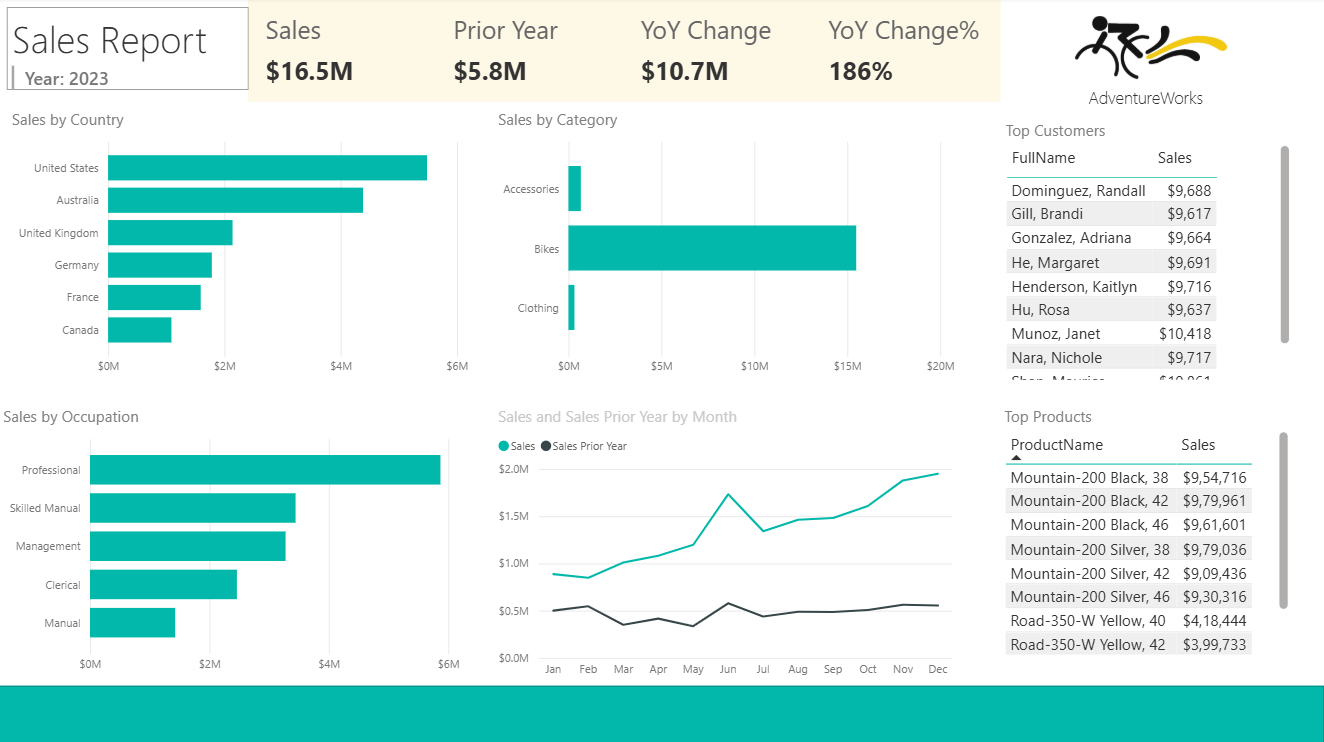

Layout of this report page (visuals, bound fields, positions):
{"tool":"powerbi","page":{"name":"Dashboard for Top customers and products","canvas":[1280,720],"ordinal":1},"visuals":[{"type":"textbox","box":[8.2,10,233.6,79.4],"z":0},{"type":"image","box":[1026.4,10,167,80.3],"z":1000},{"type":"clusteredBarChart","fields":{"Category":["Product.Category","Product.SubCategory"],"Y":["Sales.Sales"]},"box":[477.3,107.2,450.8,266.6],"z":2000},{"type":"cardVisual","fields":{"Data":["Sales.Sales","Sales.Sales Prior Year","Sales.Year over Year Change","Sales.YoY Change%"]},"box":[241.8,0.9,726.4,100],"z":3000},{"type":"lineChart","fields":{"Category":["Calendar.Month"],"Y":["Sales.Sales","Sales.Sales Prior Year"]},"box":[477.3,394.1,448.1,271],"z":4000},{"type":"tableEx","title":"Top Customers","fields":{"Values":["Customer.FullName","Sales.Sales"]},"box":[967.9,117.7,284,255.8],"z":5000},{"type":"tableEx","title":"Top Products","fields":{"Values":["Product.ProductName","Sales.Sales"]},"box":[966.2,394,284,244.7],"z":6000},{"type":"textbox","box":[1021.8,80.3,171.5,33.8],"z":7000},{"type":"clusteredBarChart","fields":{"Category":["Territories.Country","Territories.Region"],"Y":["Sales.Sales"]},"box":[8,107.2,450.8,266.6],"z":8000},{"type":"clusteredBarChart","fields":{"Category":["Customer.Occupation"],"Y":["Sales.Sales"]},"box":[0,394.1,450.8,266.6],"z":9000},{"type":"multiRowCard","fields":{"Values":["Sales.Year Selected"]},"box":[8.2,61.1,203.4,37.4],"z":10000},{"type":"shape","box":[0,664.5,1280,55.5],"z":10001}]}

Visuals, with their boxes in screenshot pixels (x1, y1, x2, y2), scaled from the page's 1280x720 canvas onto the 1324x742 screenshot:
textbox: 8/10/250/92
image: 1062/10/1234/93
clusteredBarChart - Product.Category x Product.SubCategory: 494/110/960/385
cardVisual - Sales.Sales x Sales.Sales Prior Year: 250/1/1001/104
lineChart - Calendar.Month x Sales.Sales: 494/406/957/685
"Top Customers" tableEx: 1001/121/1295/385
"Top Products" tableEx: 999/406/1293/658
textbox: 1057/83/1234/118
clusteredBarChart - Territories.Country x Territories.Region: 8/110/475/385
clusteredBarChart - Customer.Occupation x Sales.Sales: 0/406/466/681
multiRowCard - Sales.Year Selected: 8/63/219/102
shape: 0/685/1323/741
